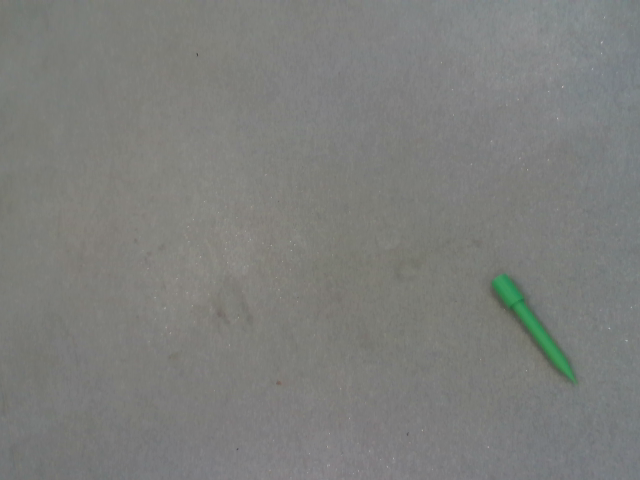Probe: (486, 266, 588, 392)
